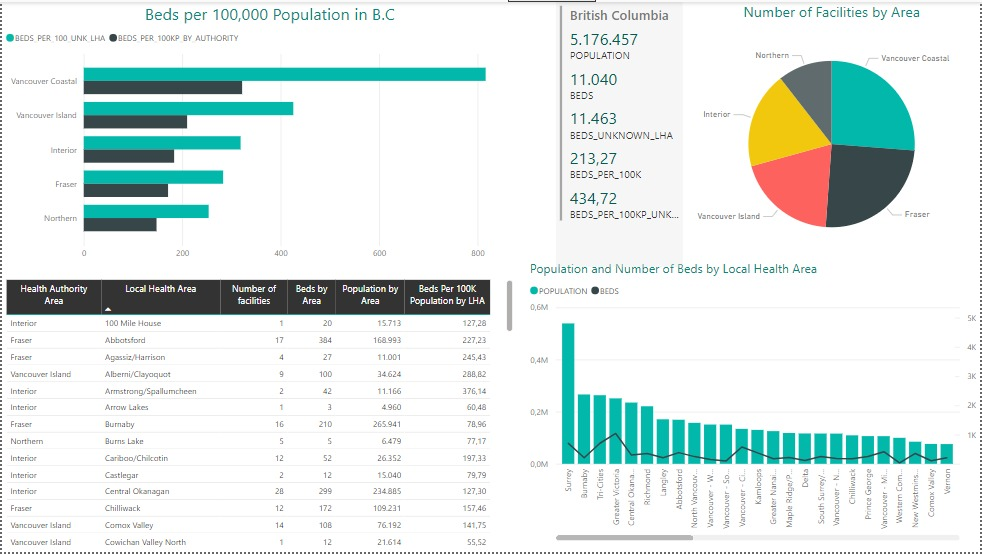

What the dashboard file says about the page in this screenshot:
{"tool":"powerbi","page":{"name":"Page 1","canvas":[1280,720],"ordinal":0},"visuals":[{"type":"tableEx","fields":{"Values":["DatabyArea.HEALTH_AUTHORITY1","DatabyArea.LOCAL_HEALTH_AREA","Sum(DatabyArea.COUNT_OF_FACILITIES_BY_AREA)","DatabyArea.BEDS_BY_AREA","Sum(DatabyArea.POPULATION)","Avg(DatabyArea.BEDS_PER_100KP_BY_AREA)"]},"box":[0,359,674,361],"z":0},{"type":"lineClusteredColumnComboChart","title":"Population and Number of Beds by Local Health Area","fields":{"Y2":["Sum(MergedData.BEDS)"],"Y":["Max(MergedData.POPULATION)"],"Category":["MergedData.LOCAL_HEALTH_AREA1"]},"box":[685.5,337.3,594.5,372.5],"z":1000},{"type":"clusteredBarChart","title":"Beds per 100,000 Population in B.C","fields":{"Category":["DatabyAuthority.HEALTH_AUTHORITY"],"Y":["Avg(DatabyAuthority.BEDS_PER_100_UNK_LHA)","Sum(DatabyAuthority.BEDS_PER_100KP_BY_AUTHORITY)"]},"box":[0,0,701,347],"z":2000},{"type":"pieChart","title":"Number of Facilities by Area","fields":{"Y":["Sum(DatabyArea.COUNT_OF_FACILITIES_BY_AREA)"],"Category":["DatabyArea.HEALTH_AUTHORITY1"]},"box":[891,0,389,347],"z":3000},{"type":"multiRowCard","fields":{"Values":["ProvinceTable.PROVINCE","ProvinceTable.POPULATION","ProvinceTable.BEDS","ProvinceTable.BEDS_UNKNOWN_LHA","ProvinceTable.BEDS_PER_100K","ProvinceTable.BEDS_PER_100KP_UNK_LHA"]},"box":[725,0,166,347],"z":4000}]}

Visuals, with their boxes in screenshot pixels (x1, y1, x2, y2), scaled from the page's 1280x720 canvas onto the 982x554 screenshot:
tableEx - DatabyArea.HEALTH_AUTHORITY1 x DatabyArea.LOCAL_HEALTH_AREA: 0:276:517:553
"Population and Number of Beds by Local Health Area" lineClusteredColumnComboChart: 526:260:981:546
"Beds per 100,000 Population in B.C" clusteredBarChart: 0:0:538:267
"Number of Facilities by Area" pieChart: 684:0:981:267
multiRowCard - ProvinceTable.PROVINCE x ProvinceTable.POPULATION: 556:0:684:267
